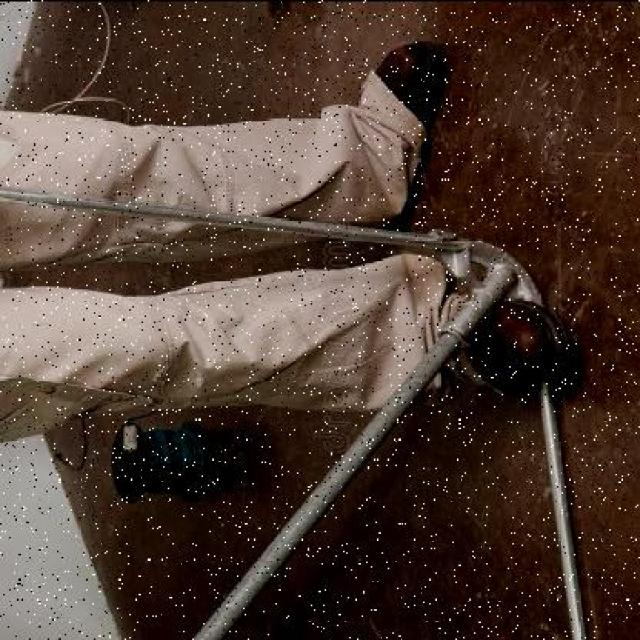shoes: (462, 300, 568, 388), (363, 39, 446, 147)
